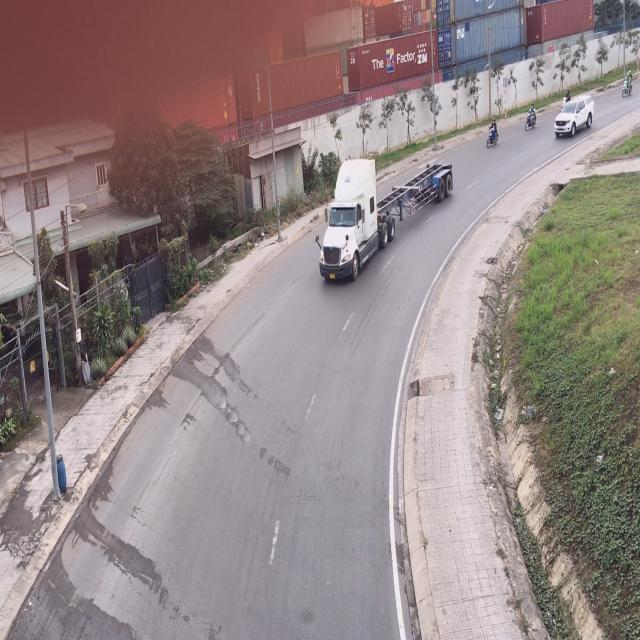car: (554, 98, 593, 140)
motorbike: (487, 120, 500, 150), (526, 100, 538, 132), (623, 71, 634, 100)
truck: (317, 158, 453, 283)
